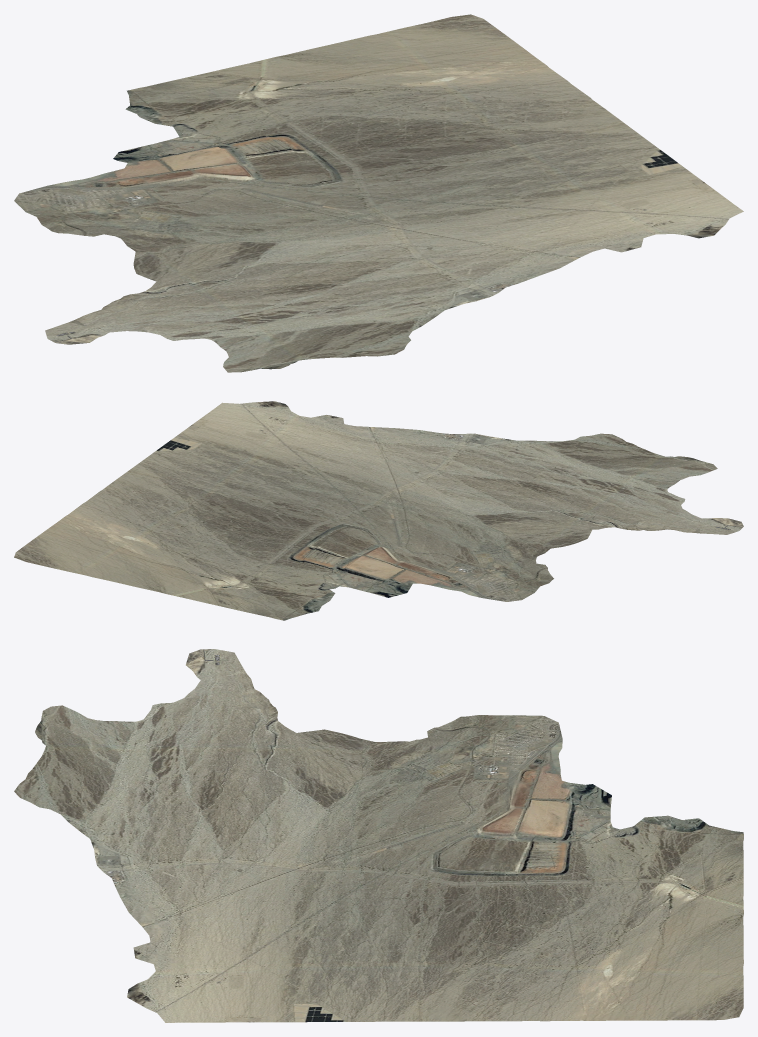
File: MOD_BG_Flats.fbx
3 renders of one model, top to bottom at view 1: azimuth 30°, elevation 25°; view 2: azimuth 150°, elevation 25°; view 3: azimuth 270°, elevation 25°, orthographic. The views are drawn at different scales.
Visible parts, largest first — view 1: MOD_BG_Flats; view 2: MOD_BG_Flats; view 3: MOD_BG_Flats.
Part boxes in pixels (x1,y1,x2,y2): MOD_BG_Flats: [14, 14, 743, 372]; MOD_BG_Flats: [14, 401, 743, 620]; MOD_BG_Flats: [14, 649, 743, 1022].
Size of the model in its own units: 965395 by 28111 by 845120.
Materials: 1 (1 with a texture image).
